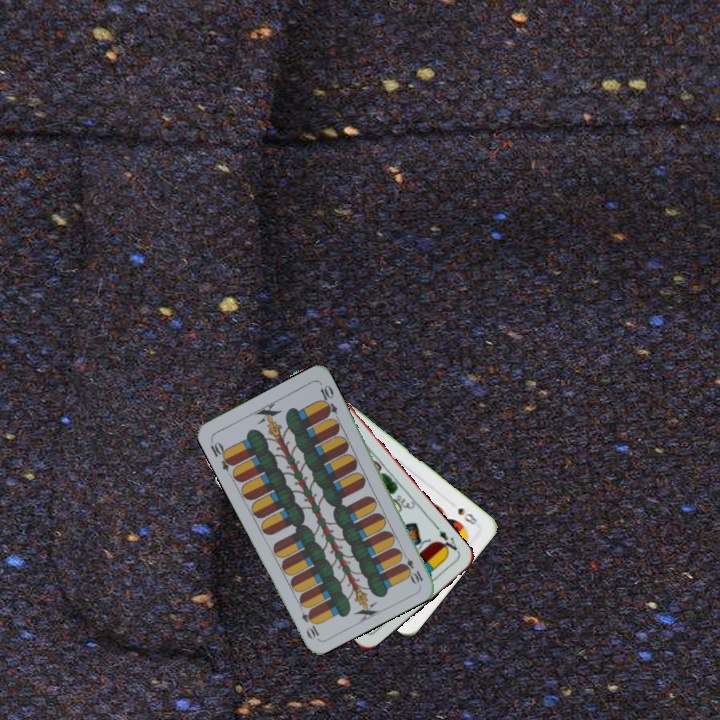E10: (206, 436, 237, 473), (397, 548, 426, 587)
EA: (434, 526, 460, 556)
S8: (454, 503, 480, 527)
